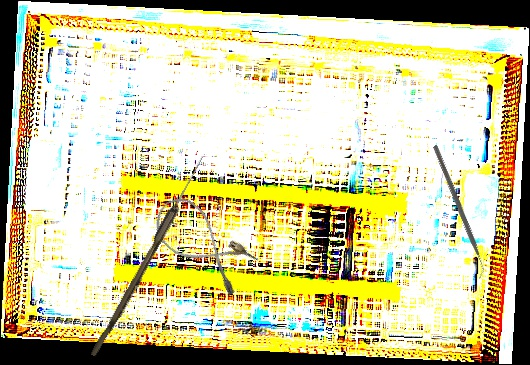Cannula: (144, 189, 262, 299)
Chopper: (385, 144, 529, 281)
Surgical Spoon: (90, 153, 207, 360)
